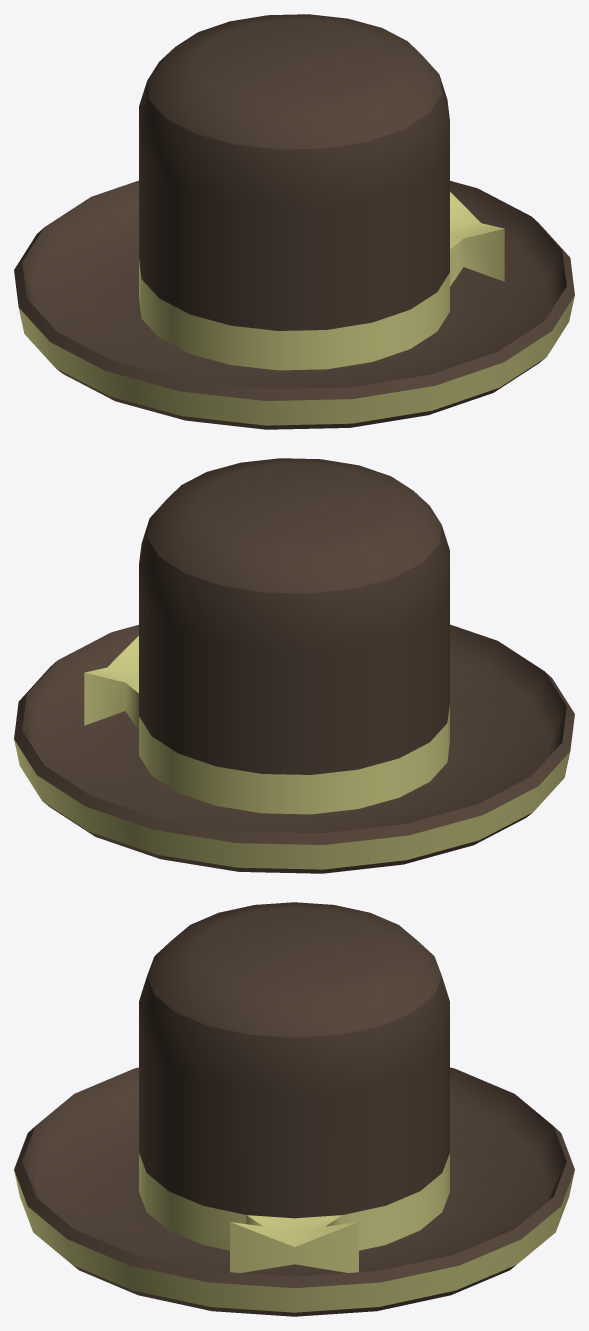
Rendered from BowlerHat.fbx.
The picture shows the model from 3 angles, top to bottom: view 1: azimuth 30°, elevation 25°; view 2: azimuth 150°, elevation 25°; view 3: azimuth 270°, elevation 25°; orthographic projection.
Parts seen in each view (by area): view 1: Bowler_Hat; view 2: Bowler_Hat; view 3: Bowler_Hat.
Part boxes in pixels (box(x1,y1,x2,y2)): Bowler_Hat: box(14, 14, 574, 429); Bowler_Hat: box(14, 458, 574, 873); Bowler_Hat: box(14, 902, 574, 1316).
Size of the model in its own units: 63.43 by 32.83 by 63.43.
